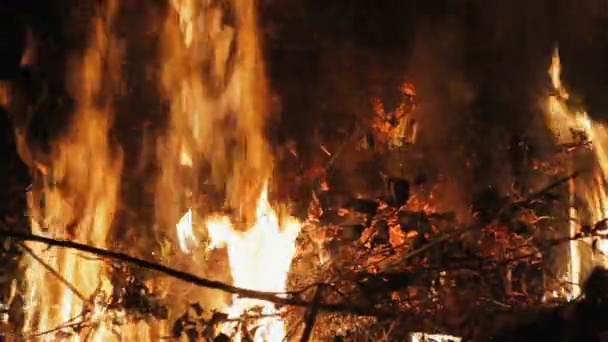fire: (160, 1, 300, 342), (17, 65, 119, 341), (545, 49, 608, 302), (408, 332, 461, 342)
